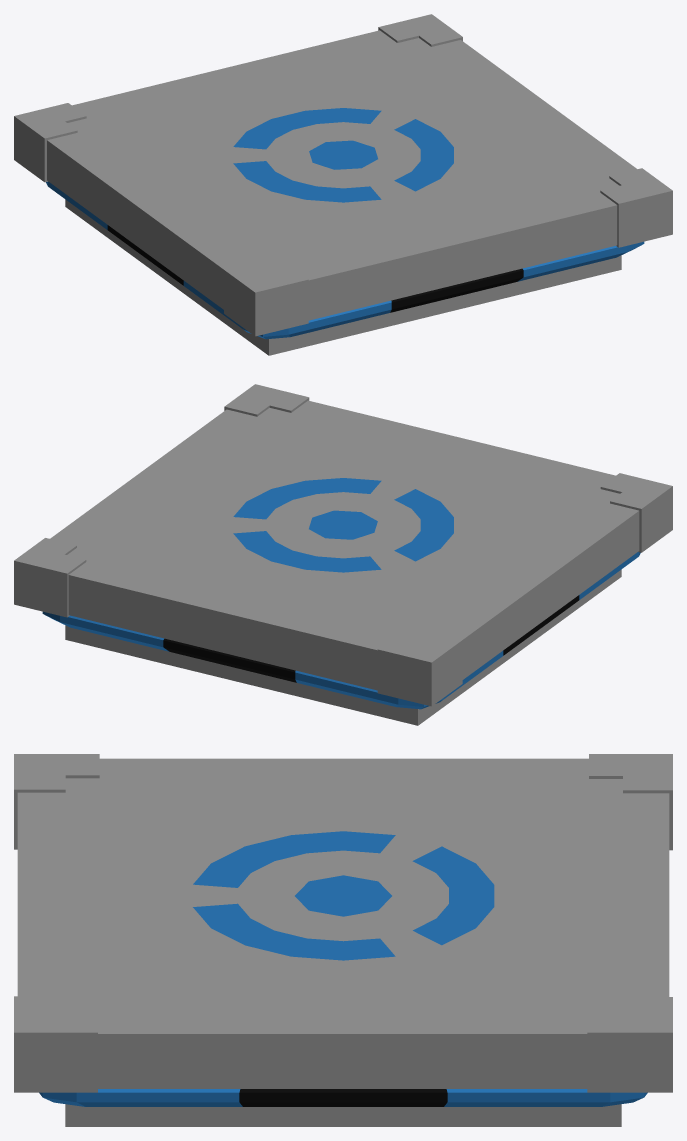
File: platform (1).fbx
3 renders of one model, top to bottom at view 1: azimuth 30°, elevation 25°; view 2: azimuth 150°, elevation 25°; view 3: azimuth 270°, elevation 25°, orthographic. The views are drawn at different scales.
Parts seen in each view (by area): view 1: platform, Object270, Object269; view 2: platform, Object270, Object269; view 3: platform, Object270, Object269.
Boxes of the visible parts, left/top/right/bottom form: platform: left=14, top=14, right=672, bottom=355; Object270: left=233, top=108, right=453, bottom=202; Object269: left=46, top=181, right=644, bottom=339; platform: left=14, top=384, right=672, bottom=725; Object270: left=233, top=478, right=453, bottom=572; Object269: left=42, top=552, right=640, bottom=709; platform: left=14, top=754, right=672, bottom=1126; Object270: left=193, top=831, right=494, bottom=960; Object269: left=39, top=1089, right=647, bottom=1106.
Size of the model in its own units: 4.06 by 0.7883 by 4.06.
